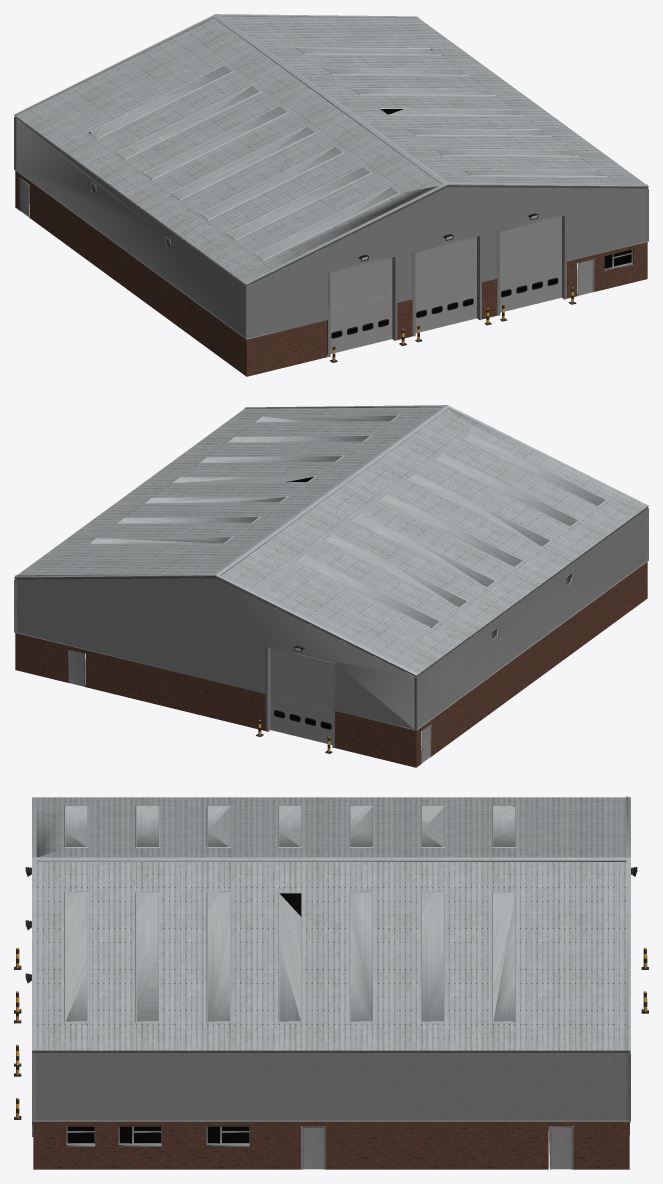
Rendered from Industria_dos.glb.
3 renders of one model, top to bottom at view 1: azimuth 30°, elevation 25°; view 2: azimuth 150°, elevation 25°; view 3: azimuth 270°, elevation 25°, orthographic. The views are drawn at different scales.
Visible parts, largest first — view 1: WSE_11_LOD0; view 2: WSE_11_LOD0; view 3: WSE_11_LOD0.
Part boxes in pixels (x1,y1,x2,y2): WSE_11_LOD0: (14,14,648,376); WSE_11_LOD0: (14,405,648,767); WSE_11_LOD0: (14,796,648,1169).
Size of the model in its own units: 25 by 8.55 by 26.5.
12 materials, 9 textured.
